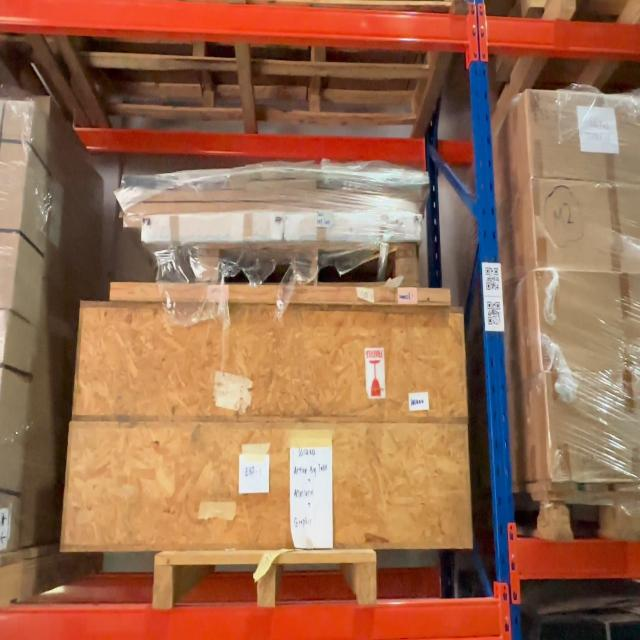box: (69, 424, 468, 548), (80, 304, 463, 416)
